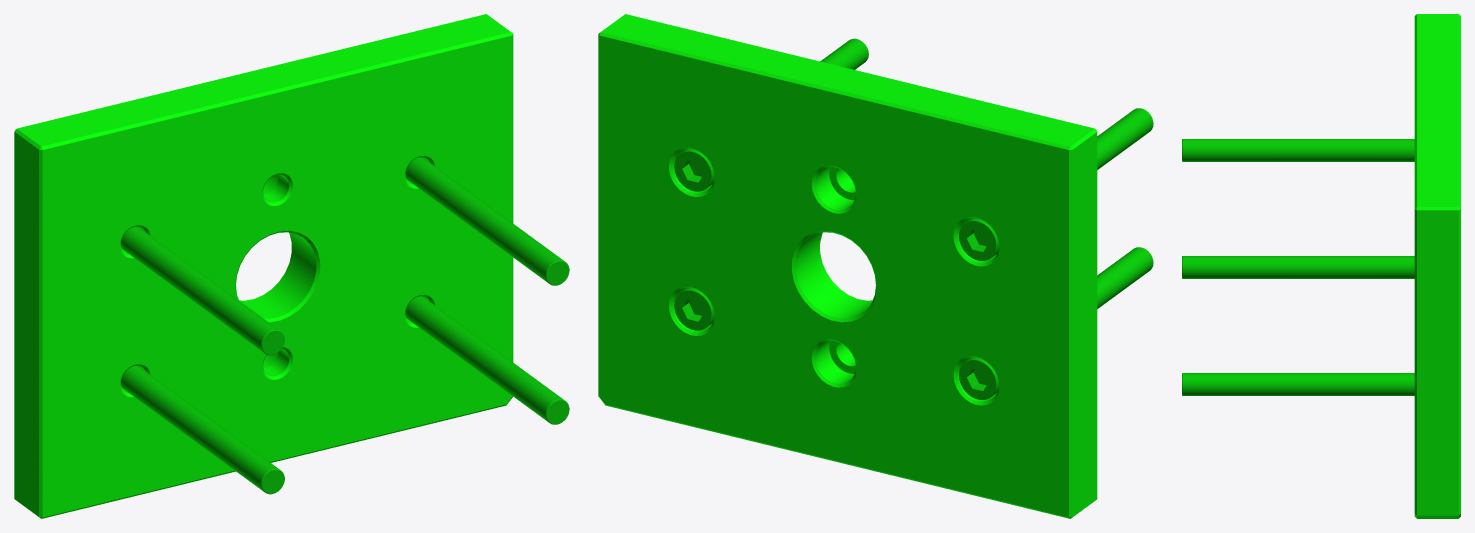
File: l_plate.glb
3 views of the same model, side by side, from view 1: azimuth 30°, elevation 25°; view 2: azimuth 150°, elevation 25°; view 3: azimuth 270°, elevation 25° (orthographic). The views are drawn at different scales.
Visible parts, largest first — view 1: Button_l_plate_031, Button_bcp_screw_044 (×4); view 2: Button_l_plate_031, Button_bcp_screw_044 (×4); view 3: Button_l_plate_031, Button_bcp_screw_044 (×3).
Boxes of the visible parts, bbox=[...] form: Button_l_plate_031: bbox=[14, 14, 513, 518]; Button_bcp_screw_044 (×4): bbox=[121, 157, 569, 494]; Button_l_plate_031: bbox=[598, 14, 1097, 518]; Button_bcp_screw_044 (×4): bbox=[674, 38, 1153, 399]; Button_l_plate_031: bbox=[1414, 14, 1460, 518]; Button_bcp_screw_044 (×3): bbox=[1182, 139, 1414, 395].
Size of the model in its own units: 0.2 by 0.15 by 0.1208.
